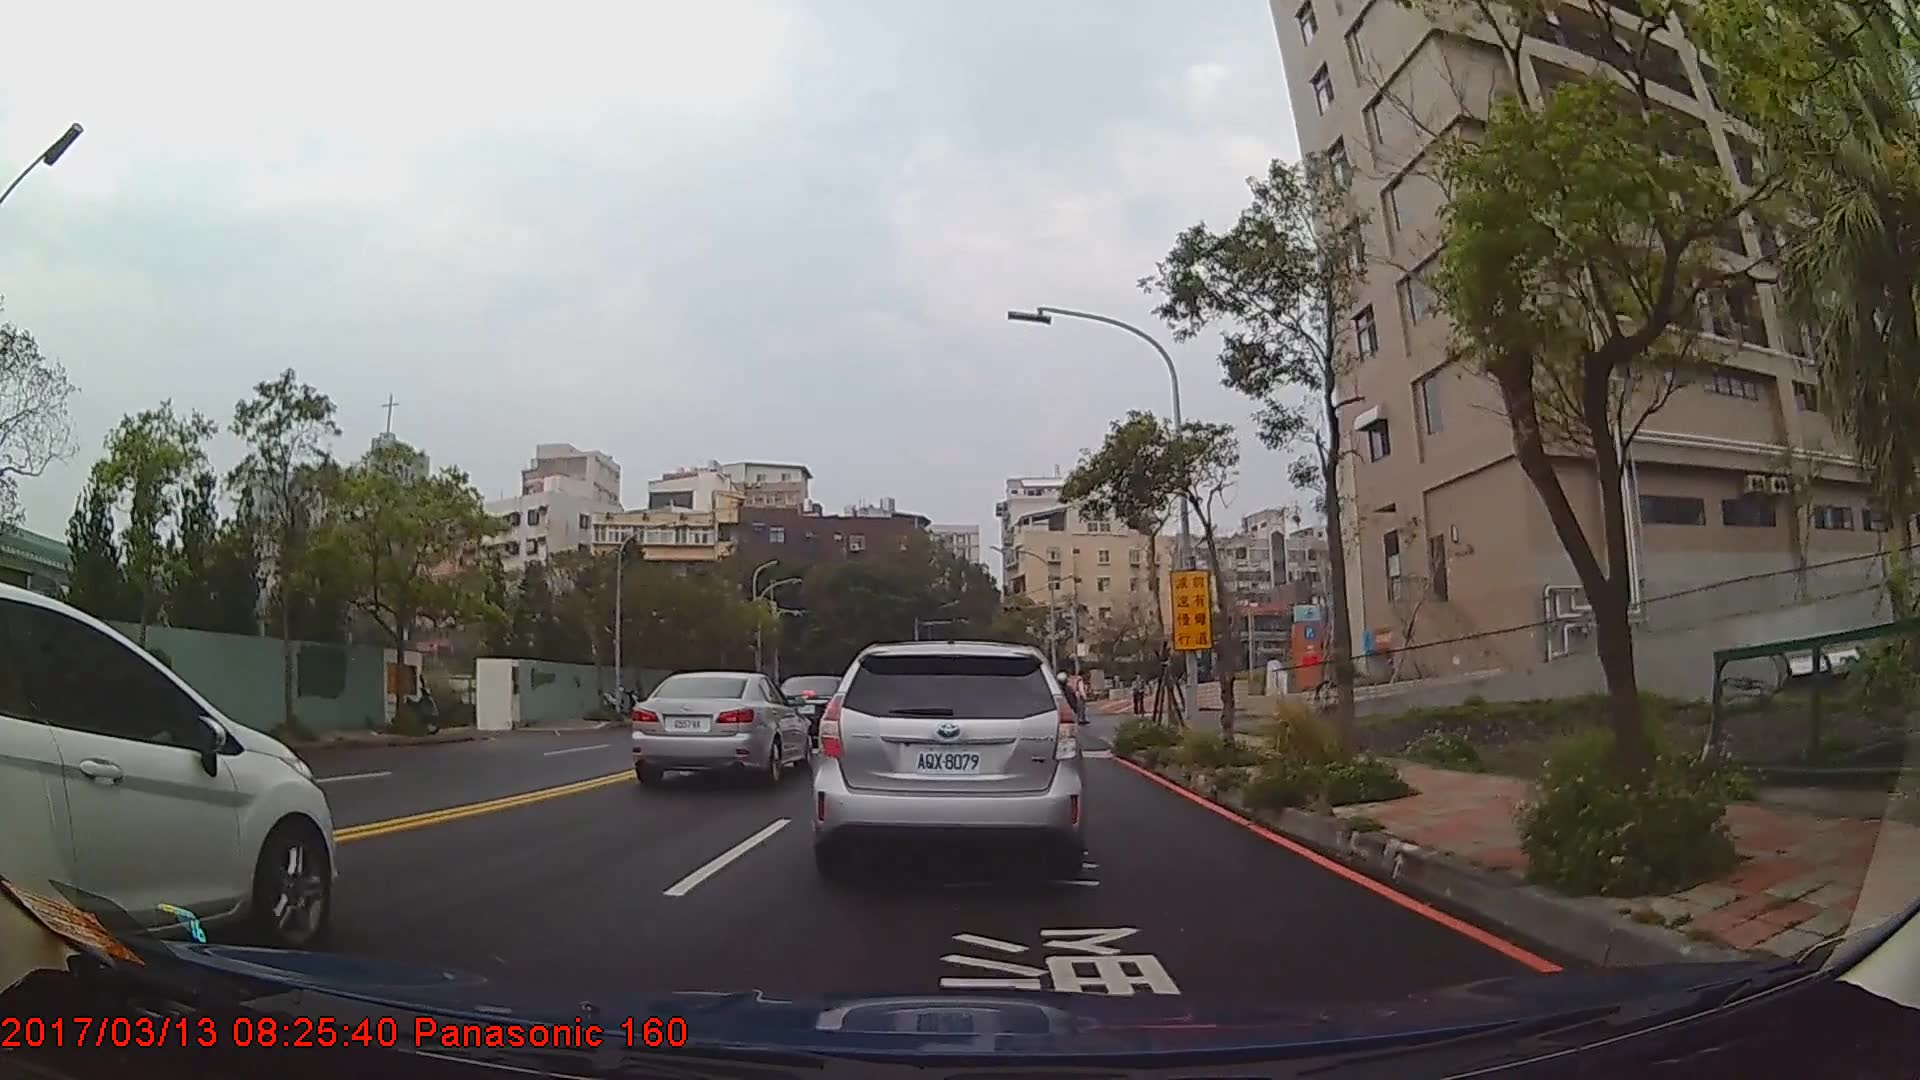pedestrian: (1072, 669, 1092, 727)
vehicle: (0, 579, 337, 956), (814, 638, 1084, 874), (629, 671, 814, 790)
